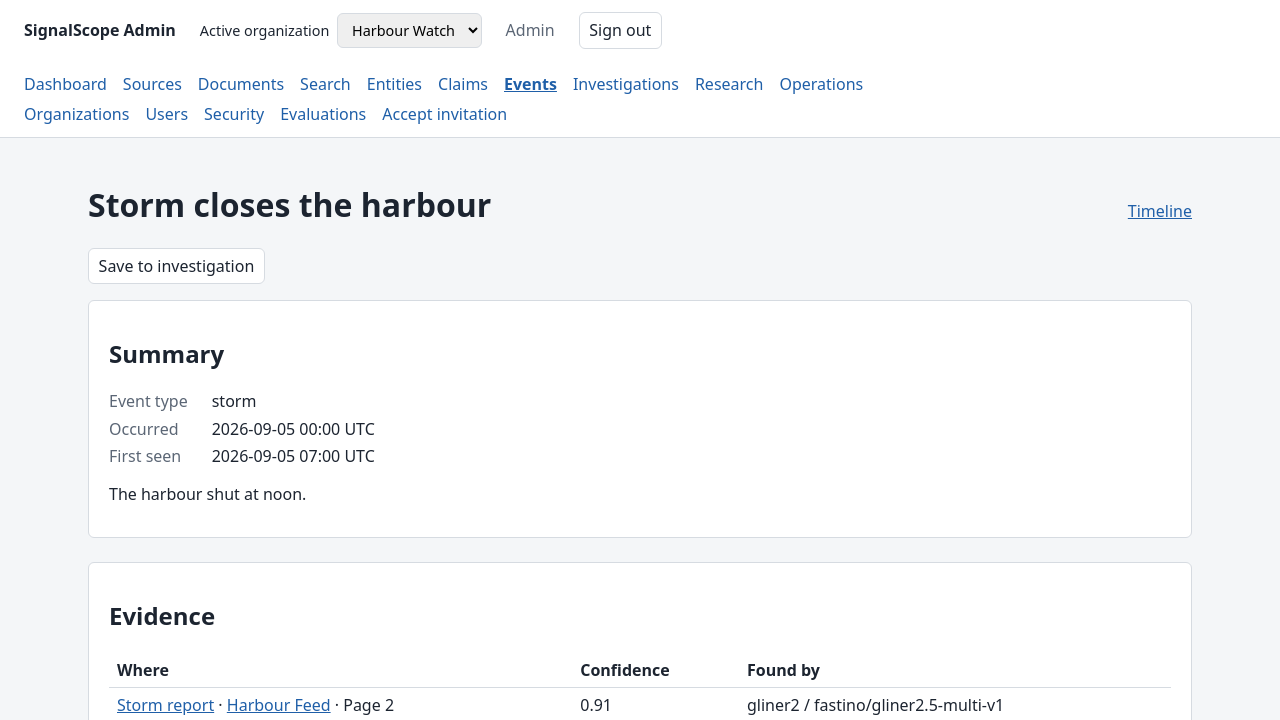
Test: event detail › does not keep the event after switching organization
Check: the element "Summary" is shown, box [88, 300, 1192, 538]
Step 1. Select "River Desk" in the dropdown labelled "Active organization" → (410,30), box [337, 12, 482, 48]
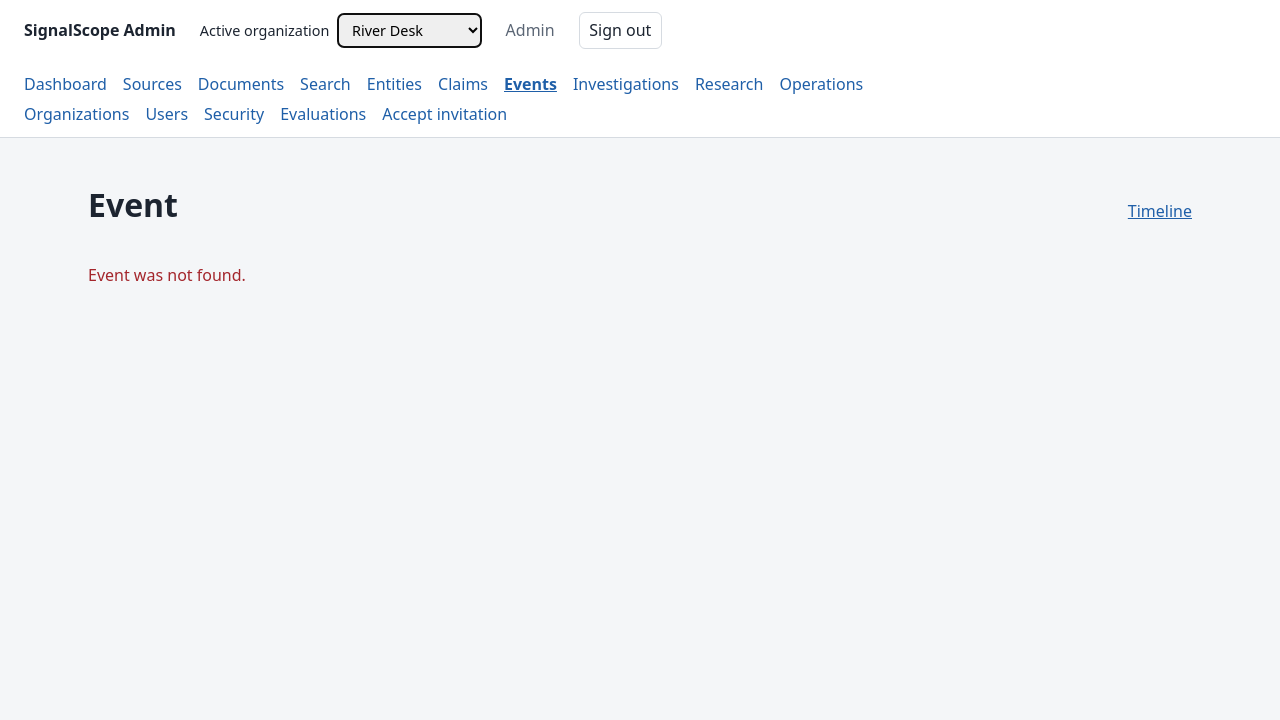
Check: the text "Event was not found." is shown, box [88, 264, 246, 286]
Check: the text "The harbour shut at noon." is gone
